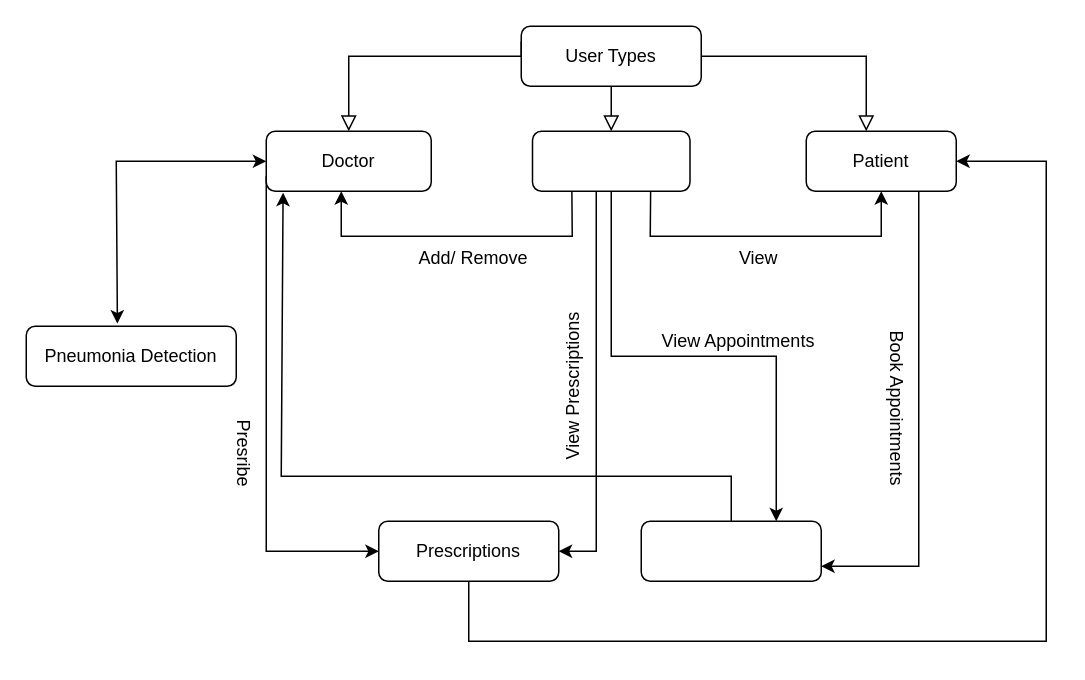
The diagram is 1085 pixels wide and 680 high, and some of its shapes have lost their labels. The shapes that lost their labels are listed below. From the top down, each one's box as (x1, y1, x2, y2) in pixels, then its label:
(531, 130, 690, 191): Admin
(640, 520, 821, 581): Appointments
